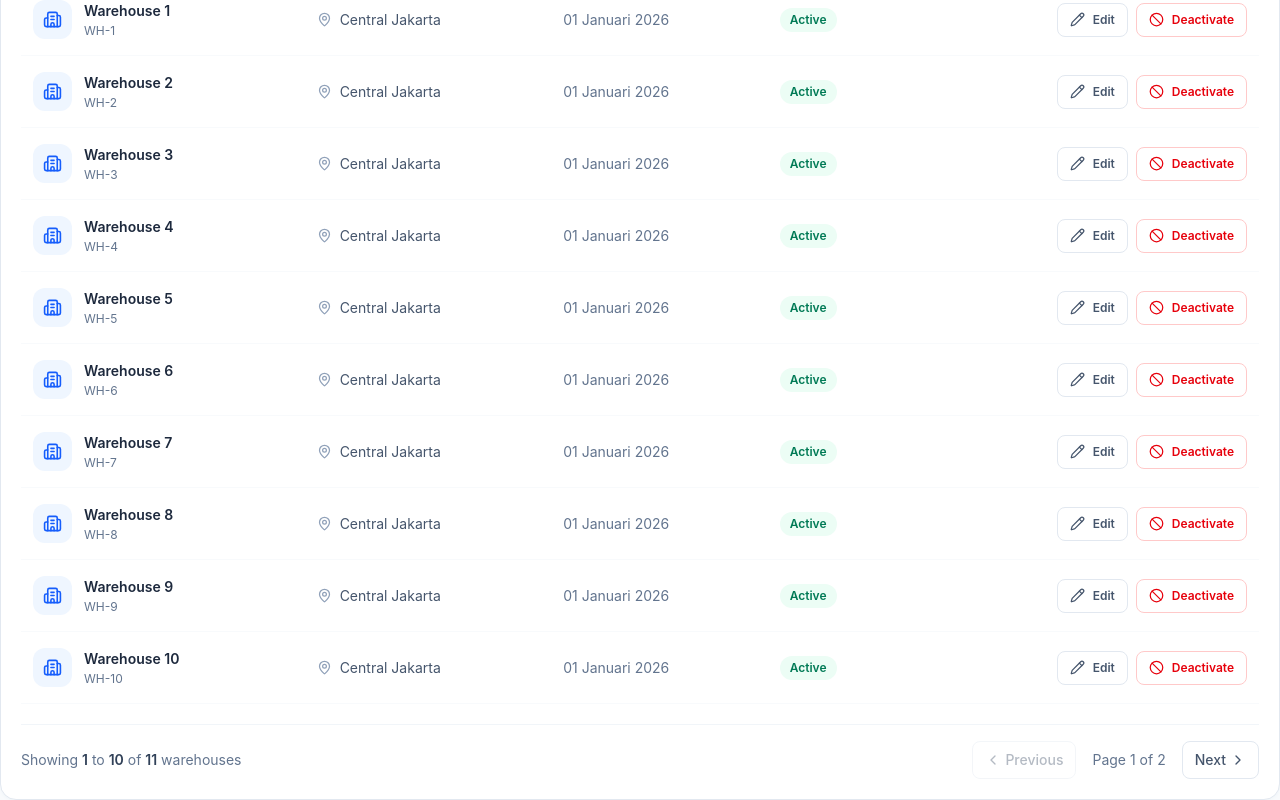
Scenario: WarehousesPage › supports pagination
This screenshot has width=1280, height=800.
(page scrolled)
Check: the text "Warehouse 1" is shown, box [84,0,170,20]
Check: the text "Page 1 of 2" is shown, box [1092,751,1166,768]
Click the button "Next" at x=1220, y=760, box [1182,741,1259,779]
(page scrolled)
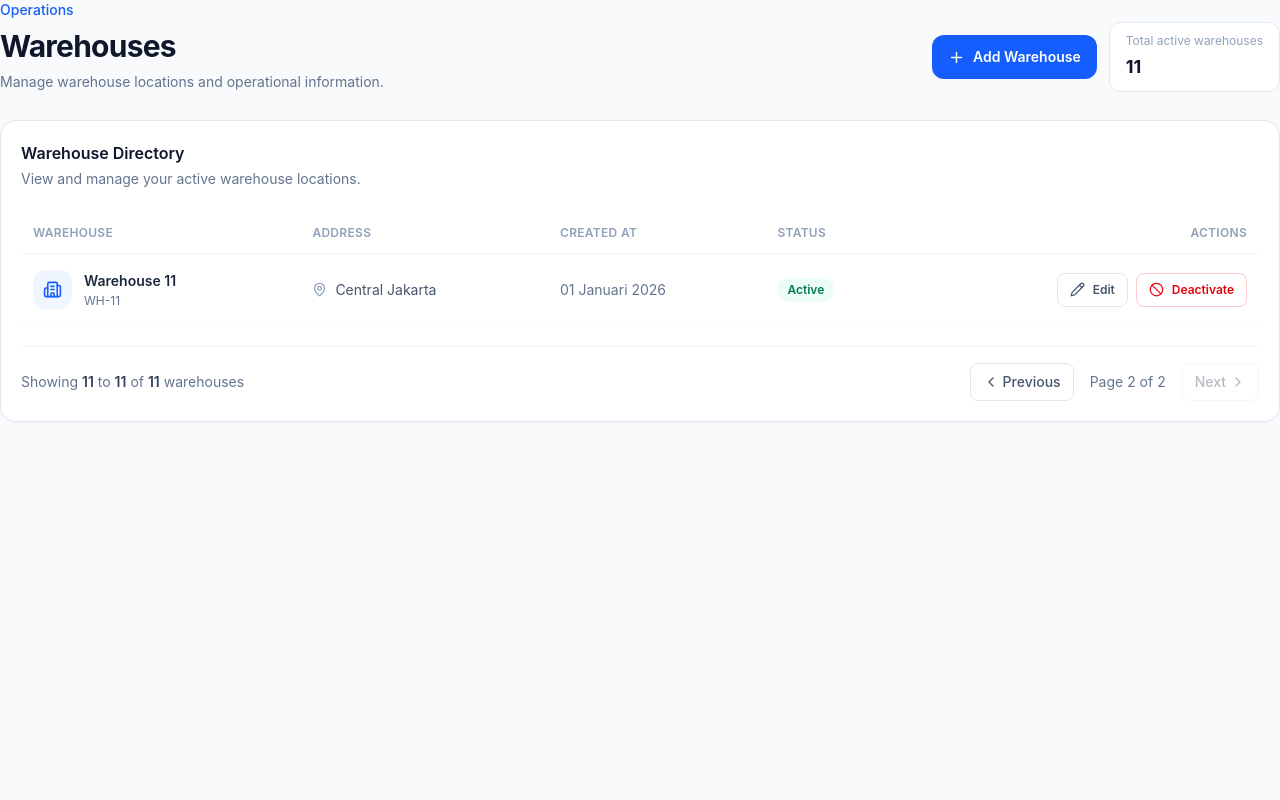
Check: the text "Warehouse 11" is shown, box [84,270,176,290]
Check: the text "Page 2 of 2" is shown, box [1090,373,1166,390]
